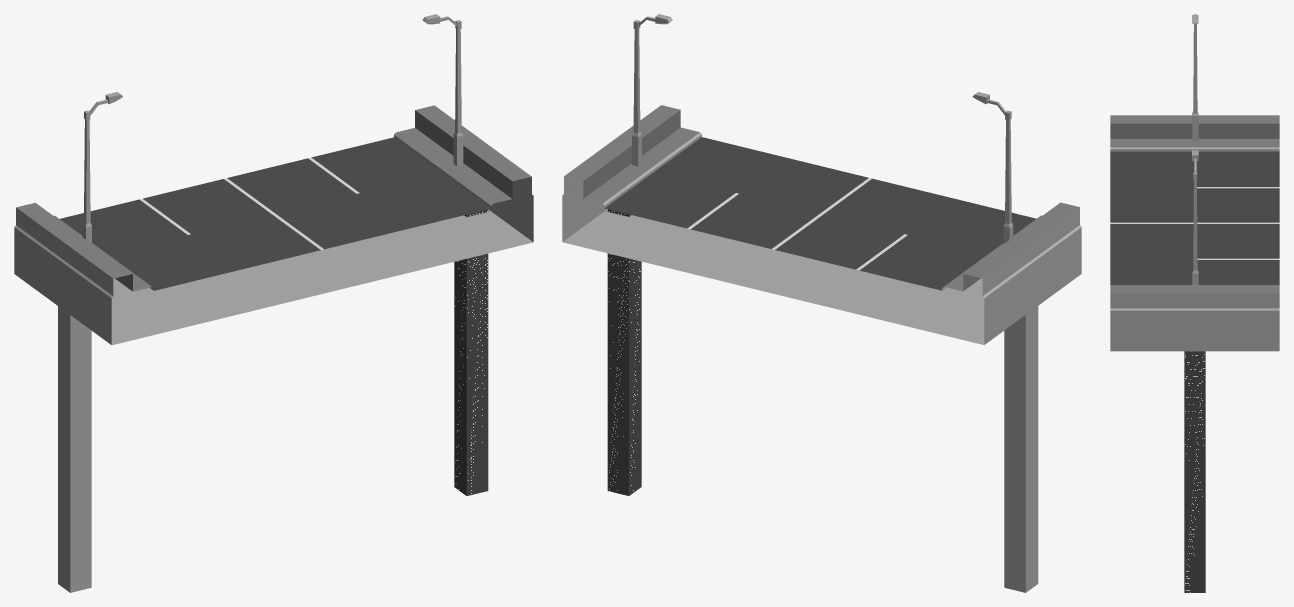
Rendered from wideHighway.glb.
3 views of the same model, side by side, from view 1: azimuth 30°, elevation 25°; view 2: azimuth 150°, elevation 25°; view 3: azimuth 270°, elevation 25° (orthographic). The views are drawn at different scales.
Parts seen in each view (by area): view 1: Highway_Straight_4_mesh; view 2: Highway_Straight_4_mesh; view 3: Highway_Straight_4_mesh.
Part boxes in pixels (bbox=[...]): Highway_Straight_4_mesh: bbox=[14, 14, 533, 592]; Highway_Straight_4_mesh: bbox=[562, 14, 1081, 592]; Highway_Straight_4_mesh: bbox=[1110, 14, 1279, 592].
Bounding box in the file's own units: 25 × 27.27 × 10.
Materials: 2 (1 with a texture image).
